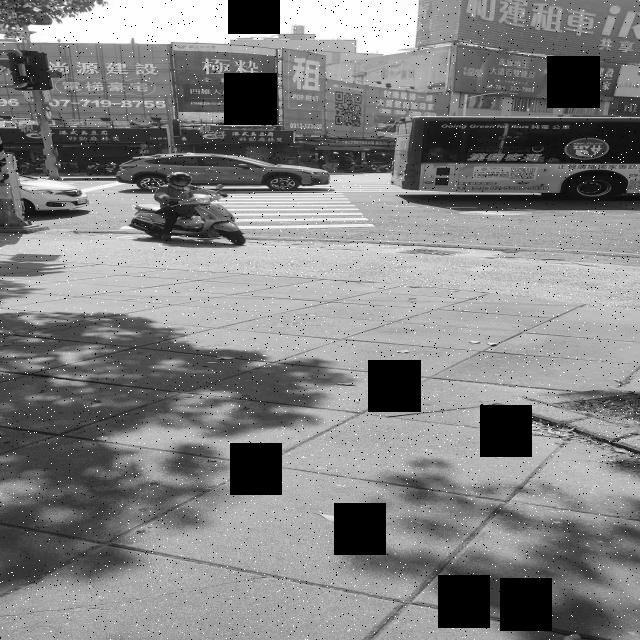zebra_crossing: (133, 90, 355, 292), (101, 97, 304, 285)
